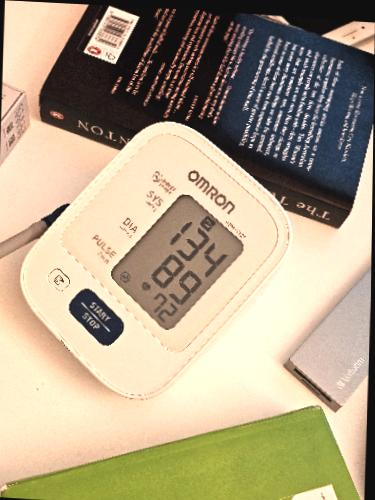bpm: (103, 189, 248, 334)
